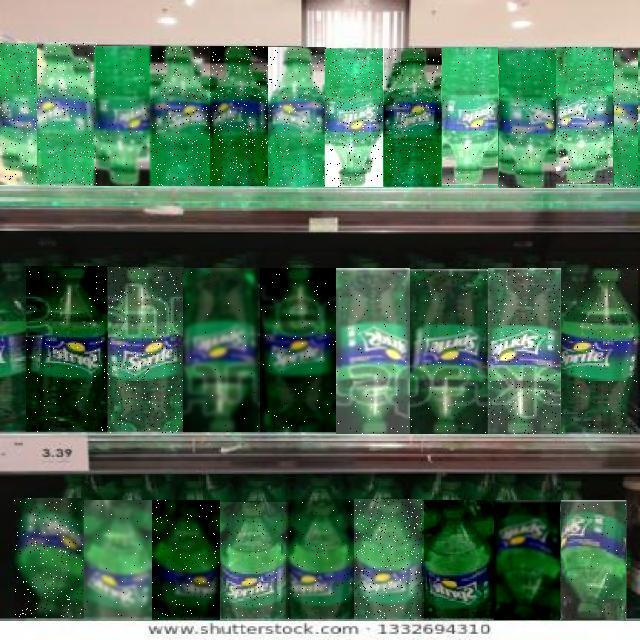Drinks: (26, 266, 108, 432), (410, 269, 490, 434), (560, 269, 638, 435), (107, 267, 184, 433), (184, 268, 260, 432), (261, 268, 337, 432), (336, 268, 410, 434), (488, 268, 561, 434), (422, 500, 496, 620), (38, 42, 98, 186), (14, 499, 86, 619), (354, 499, 424, 619), (85, 500, 153, 620), (152, 500, 220, 620), (286, 499, 354, 619), (562, 500, 630, 620), (210, 46, 268, 186), (268, 47, 326, 187), (325, 48, 383, 187), (153, 46, 210, 186), (499, 49, 556, 189), (556, 48, 613, 188), (384, 48, 441, 187), (495, 500, 561, 620), (220, 502, 288, 618), (98, 46, 154, 186), (442, 48, 498, 188), (0, 43, 37, 185), (614, 50, 638, 188)
